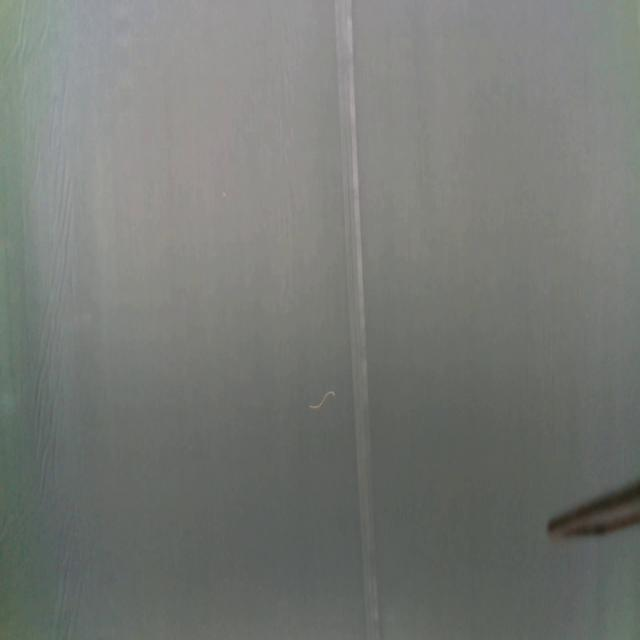crease: (337, 0, 380, 640)
